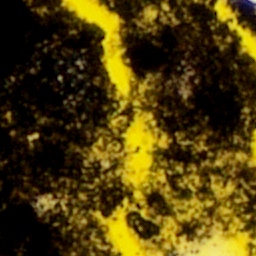cement_matrix: (101, 0, 255, 234), (0, 0, 134, 255), (129, 187, 174, 240), (228, 0, 255, 34), (179, 220, 202, 237), (183, 172, 199, 188), (143, 7, 158, 22), (38, 196, 55, 209), (239, 195, 241, 197)
cracks: (61, 0, 255, 255), (213, 0, 255, 67), (128, 186, 175, 241), (217, 124, 255, 169), (178, 219, 203, 238)
gravel_crushed_stones: (184, 173, 198, 187), (144, 8, 157, 21), (39, 197, 54, 208), (212, 254, 216, 255)
